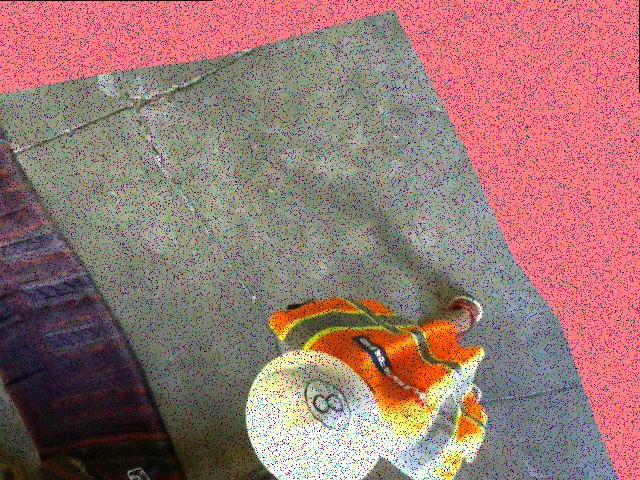eight: (297, 374, 358, 436)
